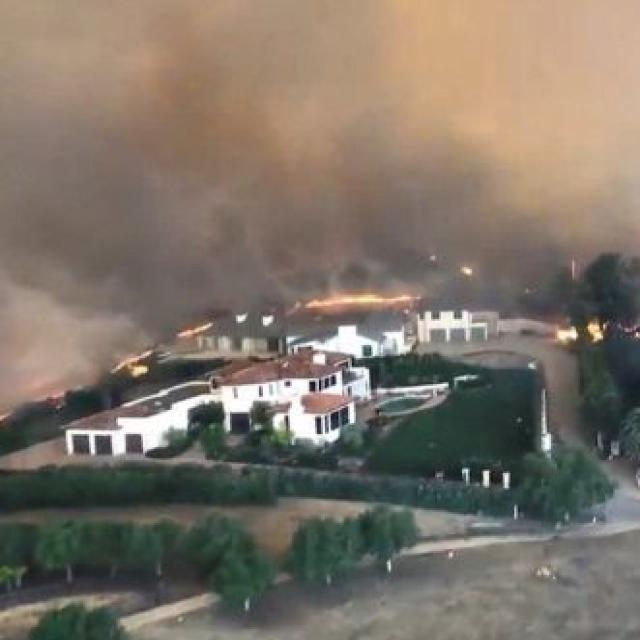Smoke: (0, 0, 577, 298)
